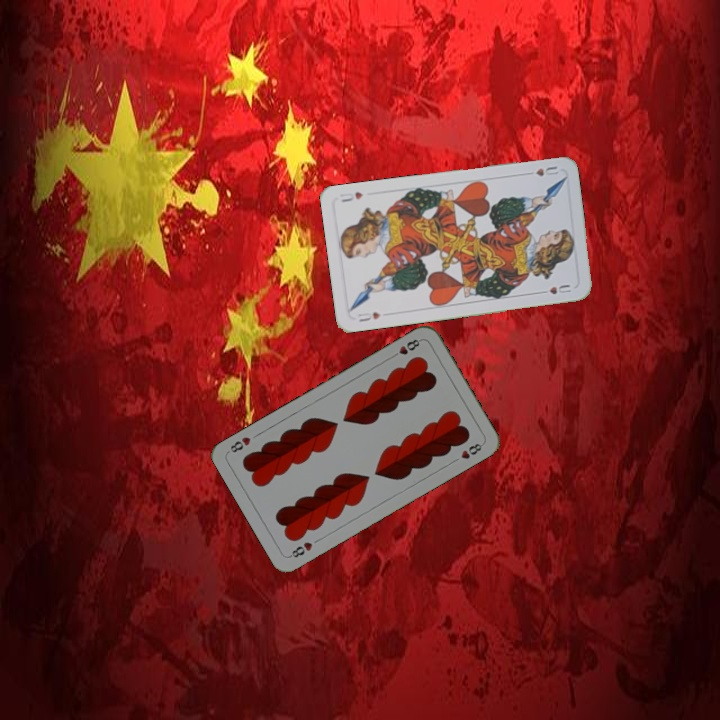H8: (387, 335, 424, 361), (285, 538, 315, 560)
HU: (354, 308, 383, 325), (532, 162, 561, 179)
